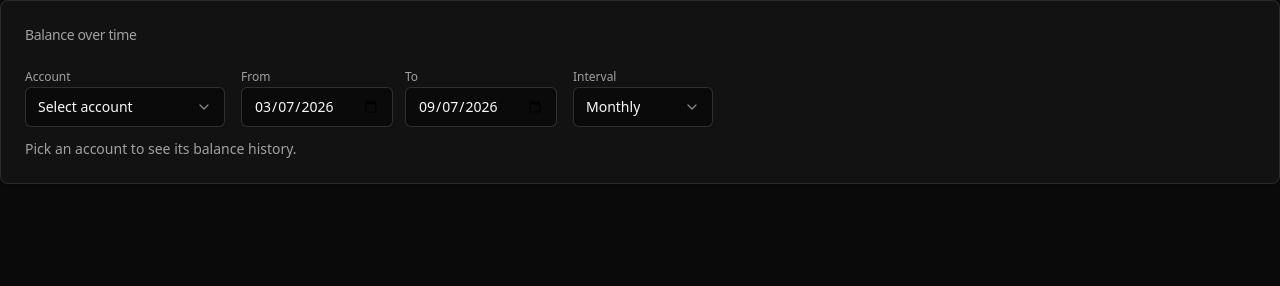
Test case: BalanceOverTimeSection states › renders the error state once an account is chosen
Click the dropdown with test id "balance-account" at (125, 107), box [25,87,225,127]
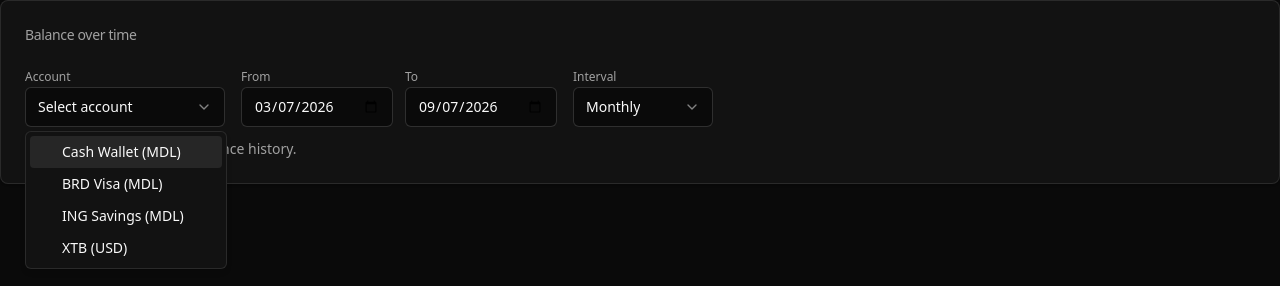
Click the option "XTB (USD)" at (95, 248), box [62,238,127,257]
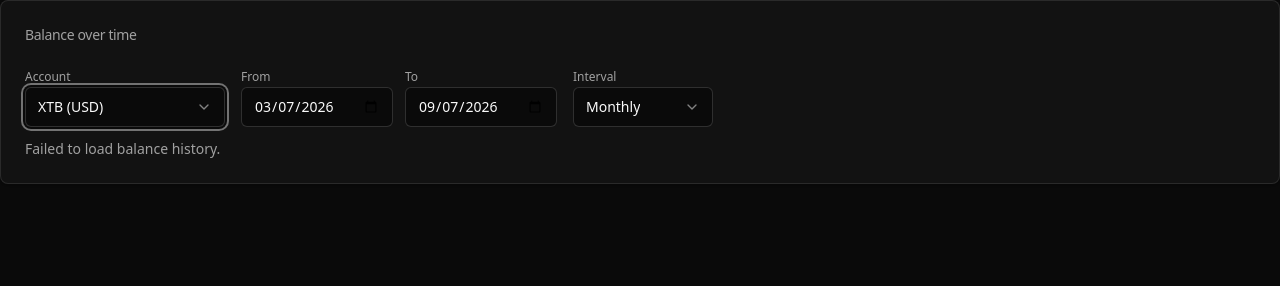
Now the text "Failed to load balance history." is shown, box [25,139,220,158]
